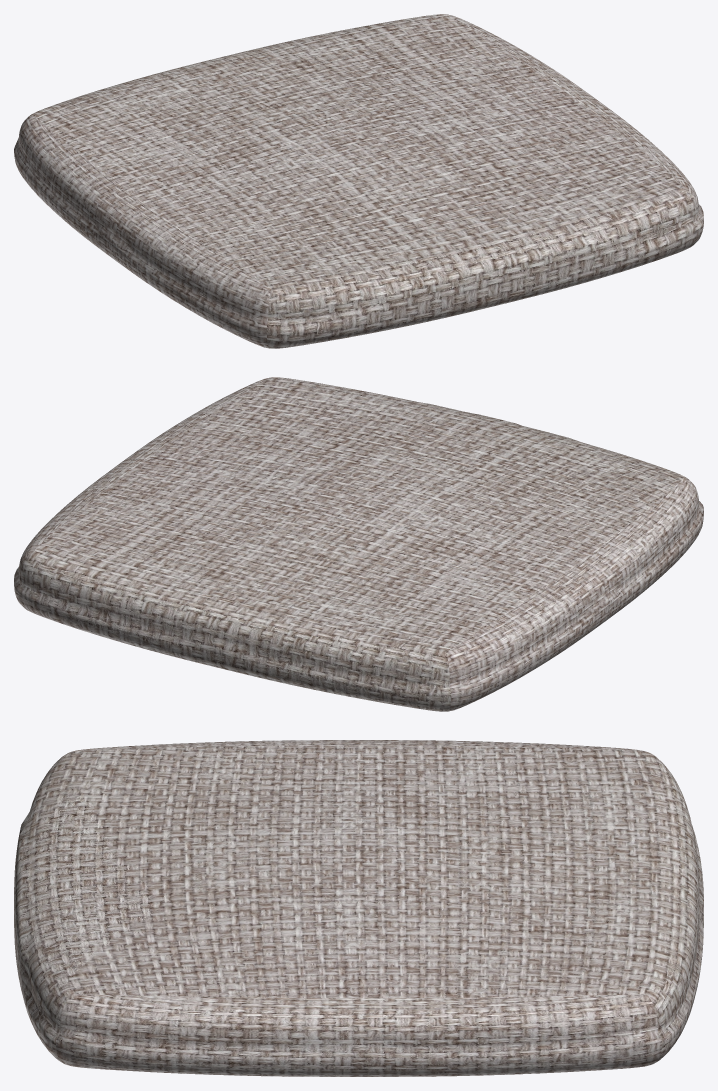
The model's file is box_lid_white.gltf.
The picture shows the model from 3 angles, top to bottom: view 1: azimuth 30°, elevation 25°; view 2: azimuth 150°, elevation 25°; view 3: azimuth 270°, elevation 25°; orthographic projection. The views are drawn at different scales.
Parts seen in each view (by area): view 1: 001_Cube.002; view 2: 001_Cube.002; view 3: 001_Cube.002.
Boxes of the visible parts, x1,y1,x2,y2 form: 001_Cube.002: [14, 14, 703, 348]; 001_Cube.002: [14, 377, 703, 711]; 001_Cube.002: [14, 740, 703, 1076].
Bounding box in the file's own units: 0.4805 × 0.066 × 0.4805.
Materials: 1 (1 with a texture image).
